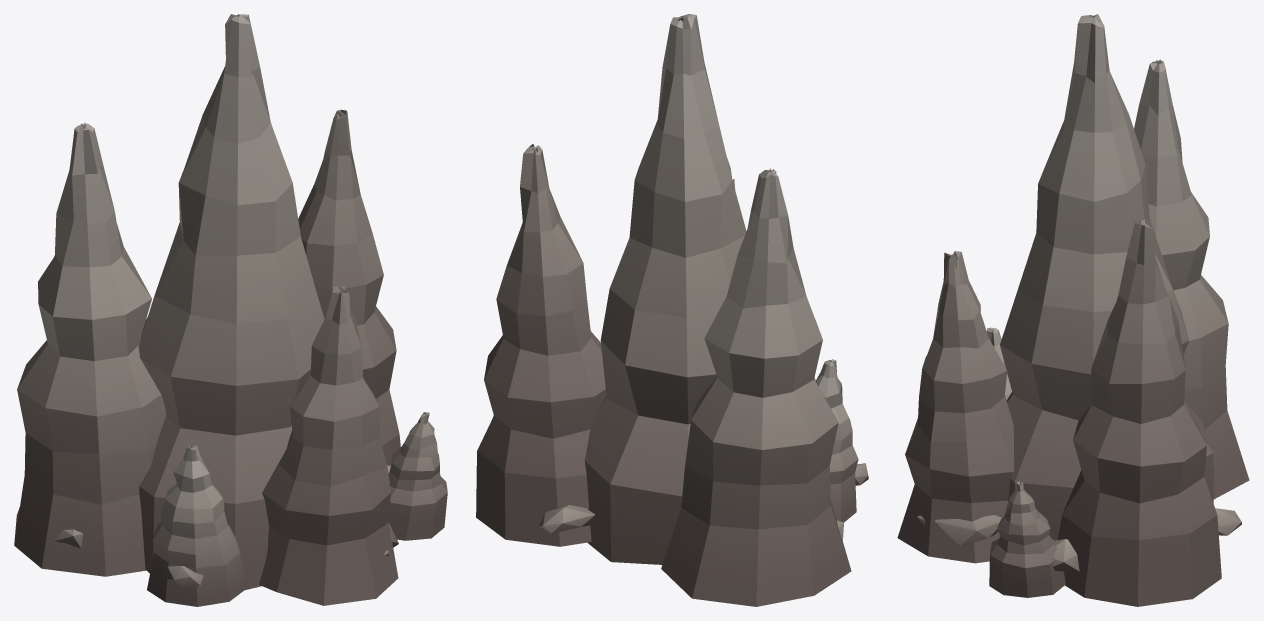
The model's file is stalagmite_cluster.glb.
3 views of the same model, side by side, from view 1: azimuth 30°, elevation 25°; view 2: azimuth 150°, elevation 25°; view 3: azimuth 270°, elevation 25° (orthographic). The views are drawn at different scales.
Parts seen in each view (by area): view 1: stalagmite_cluster; view 2: stalagmite_cluster; view 3: stalagmite_cluster.
Part boxes in pixels (bbox=[...]): stalagmite_cluster: bbox=[14, 14, 447, 606]; stalagmite_cluster: bbox=[476, 14, 868, 606]; stalagmite_cluster: bbox=[897, 14, 1249, 606].
Size of the model in its own units: 6.31 by 8.49 by 5.34.
1 material, 1 textured.
